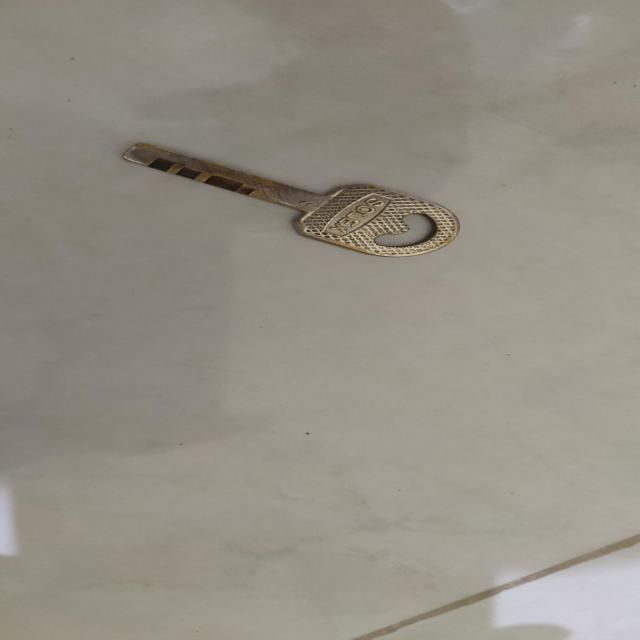kunci_pagar: (106, 124, 491, 266)
